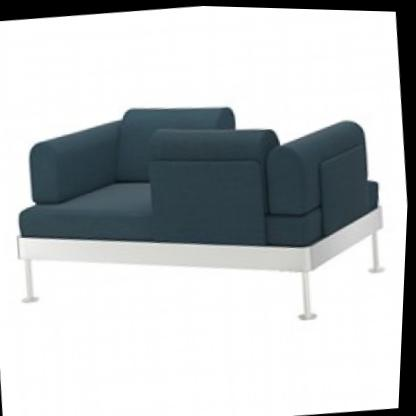Sofa: (0, 42, 404, 368)
